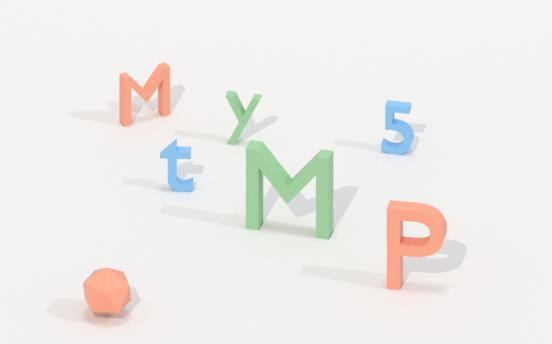5: (377, 98, 419, 156)
M-hoa: (241, 141, 335, 238), (114, 61, 172, 127)
Y: (222, 90, 266, 145)
dagiac: (81, 266, 136, 318)
p: (384, 201, 453, 291)
t: (159, 138, 200, 195)
